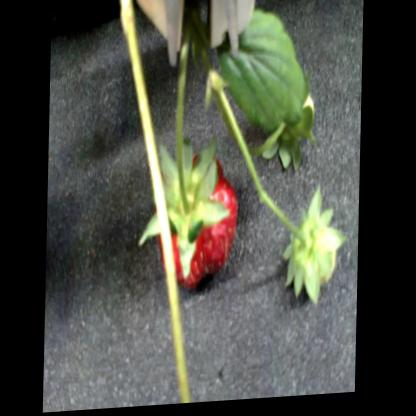ripe: (156, 150, 250, 297)
unripe: (292, 212, 339, 300)
